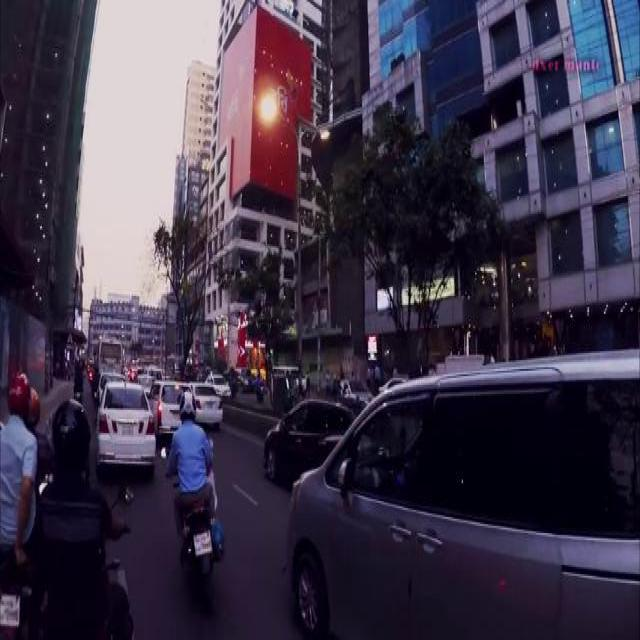bus: (92, 334, 122, 370)
car: (262, 393, 360, 482), (94, 379, 156, 468), (148, 377, 192, 434), (188, 380, 222, 424), (338, 374, 370, 405), (95, 369, 125, 399), (203, 372, 229, 393), (236, 367, 256, 387)
minivan: (284, 348, 638, 636)
motorbike: (158, 442, 224, 604), (0, 442, 50, 635), (98, 484, 134, 589)
van: (270, 363, 304, 388)
